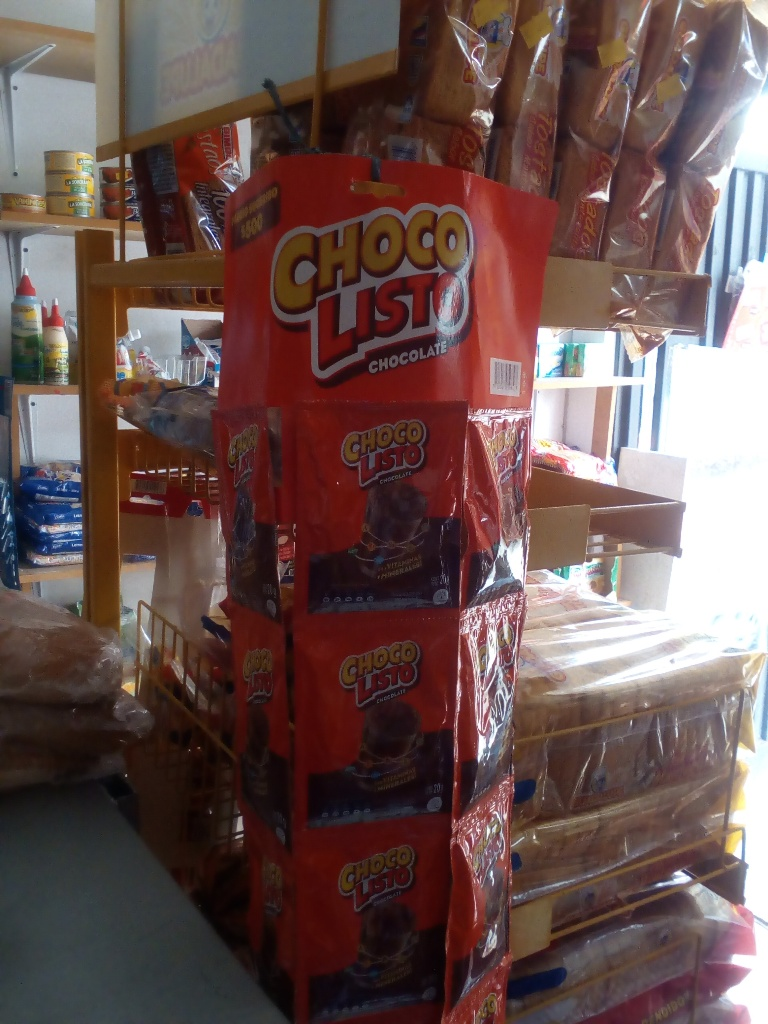COL0170103SOB02000: (297, 406, 460, 609)
